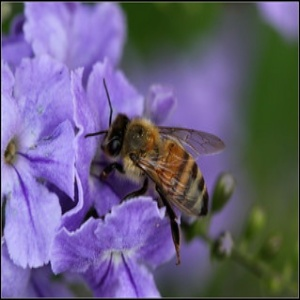bee: (83, 76, 231, 269)
